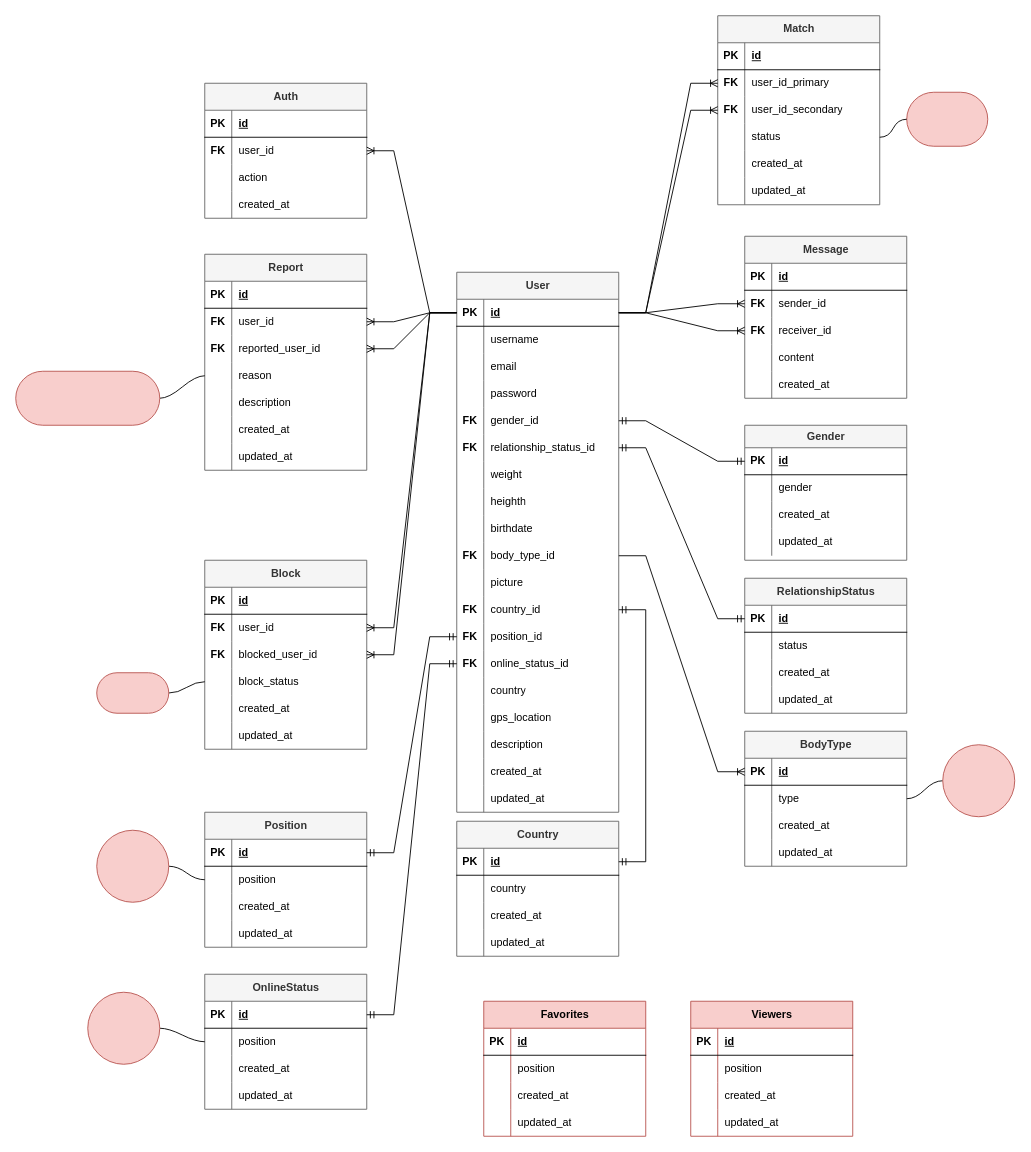
The diagram is 1031 pixels wide and 1152 high, and some of its shapes have lost their labels. The centre of each missing label's shape, as x and y in pixels:
Accepted Rejected Pending: (947,118)
Blocked Unblocked: (132,692)
Chub Bear Twink ...: (978,780)
Inappropriate Content Harassment Other ??: (87,397)
Online Offline Away ...: (123,1027)
Top Bottom Side ...: (132,865)
